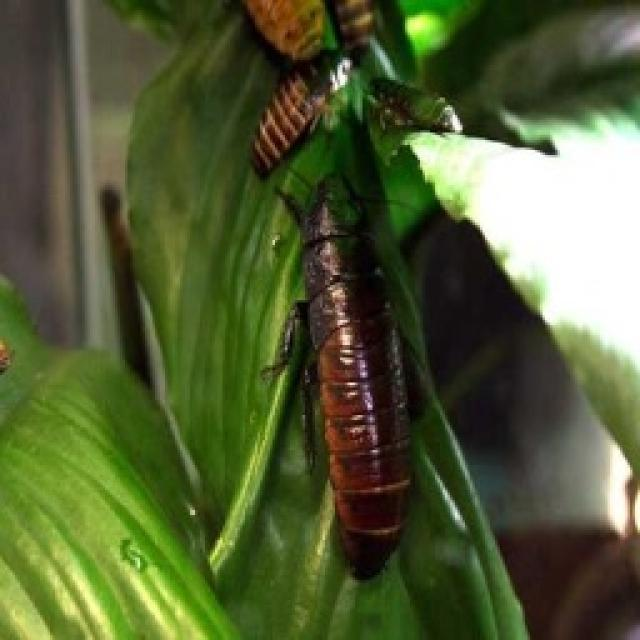cockroach: (264, 138, 451, 598), (244, 42, 375, 220), (362, 54, 472, 148), (241, 0, 321, 78)
